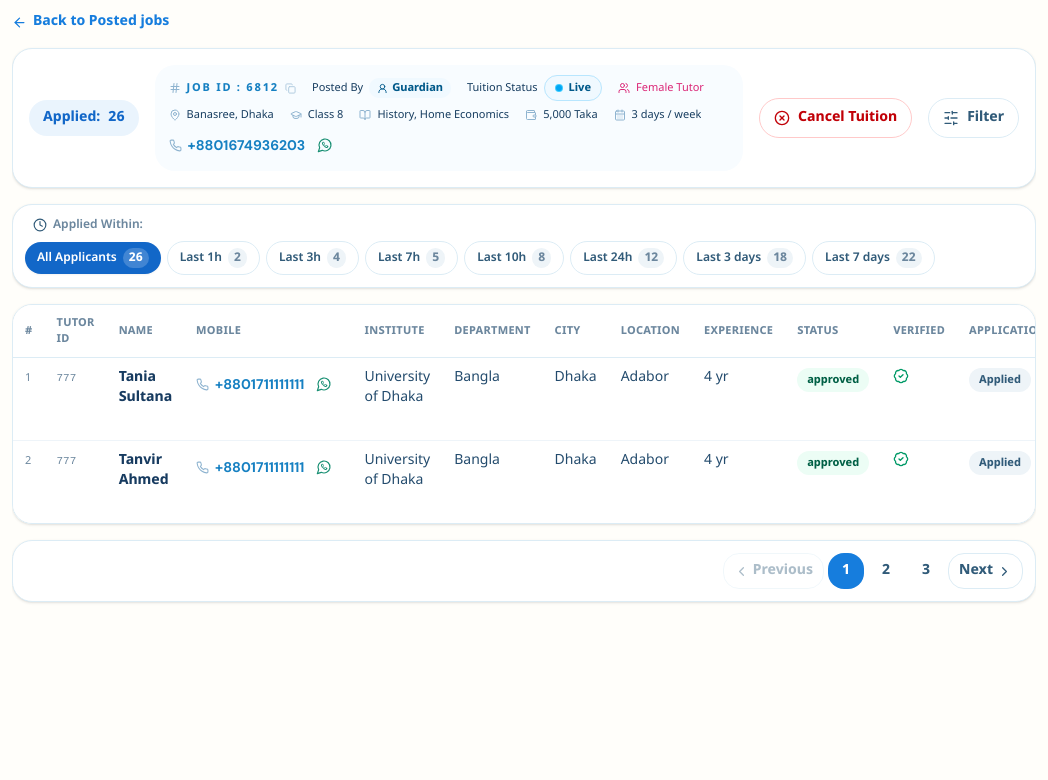
Admin Applied Tutors page › continues the numbering across pages rather than restarting at one
The image size is (1048, 780).
Click the button "Next".
click(986, 571)  # box [948, 553, 1023, 589]
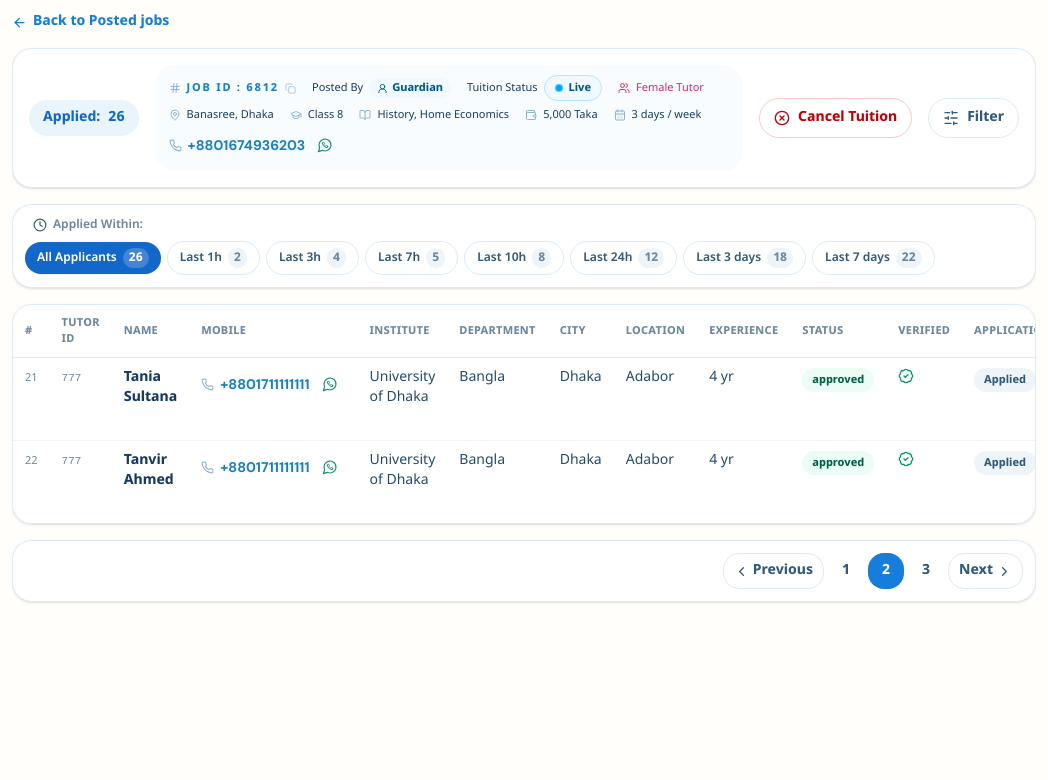
Expected: the text "21" is shown, [25, 371, 38, 385]
Expected: the text "22" in the row of "Tanvir Ahmed" is shown, [25, 454, 38, 468]
